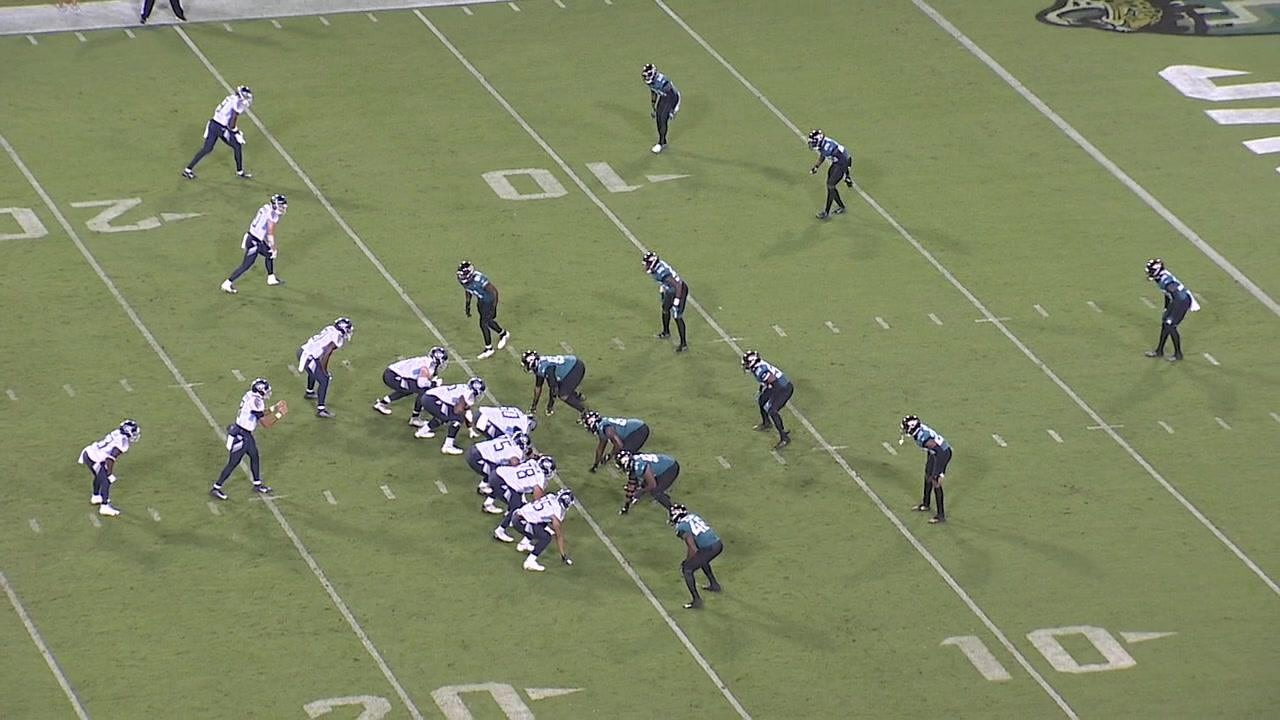player: (213, 375, 280, 499), (480, 460, 557, 546), (222, 197, 289, 295), (186, 85, 255, 179), (412, 375, 491, 455), (371, 350, 450, 430), (81, 417, 142, 519), (299, 313, 356, 419), (507, 491, 577, 577), (454, 258, 511, 363), (902, 416, 953, 524), (642, 246, 693, 353), (671, 507, 722, 610), (745, 351, 800, 446), (1144, 260, 1195, 359), (807, 128, 858, 224), (522, 349, 592, 418), (585, 409, 652, 474), (468, 435, 533, 496), (622, 452, 680, 515), (639, 61, 678, 150), (478, 405, 541, 438)
